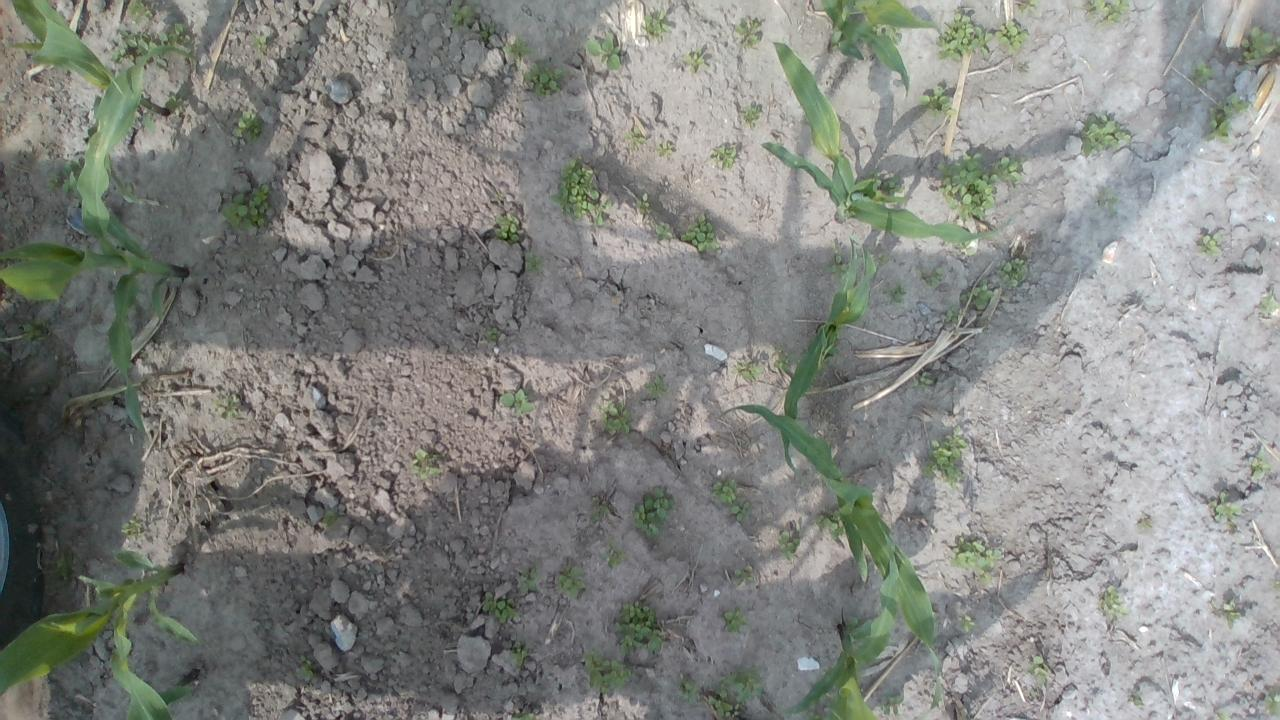Maize: (0, 43, 197, 434), (720, 404, 944, 712), (762, 40, 1005, 244), (0, 549, 198, 720), (8, 0, 168, 201), (780, 238, 877, 484), (784, 553, 899, 720), (814, 0, 941, 94), (126, 670, 198, 720)
Weeds: (936, 152, 996, 224), (920, 424, 970, 492), (610, 602, 666, 656), (934, 10, 992, 61), (552, 159, 600, 220), (584, 648, 640, 698), (949, 536, 1002, 586), (222, 184, 274, 232), (1080, 114, 1131, 157), (631, 488, 673, 540), (1207, 96, 1250, 144), (681, 211, 722, 254), (716, 670, 764, 704), (108, 32, 158, 62), (524, 61, 565, 97), (584, 32, 622, 70), (46, 160, 82, 198), (916, 86, 956, 118), (1242, 27, 1280, 60), (996, 19, 1030, 54), (1086, 0, 1130, 27), (1096, 585, 1128, 622), (482, 592, 520, 623), (1210, 490, 1244, 524), (230, 110, 264, 144), (598, 400, 632, 432), (671, 672, 705, 704), (500, 388, 536, 418), (992, 154, 1025, 185), (408, 448, 441, 479), (960, 280, 994, 310), (502, 33, 538, 58), (998, 256, 1026, 288), (560, 567, 586, 601), (707, 695, 741, 720), (160, 23, 192, 48), (211, 393, 243, 418), (732, 359, 766, 382), (776, 528, 800, 560), (643, 8, 672, 34), (816, 511, 846, 536), (1028, 654, 1050, 688), (495, 213, 520, 242), (450, 1, 475, 30), (734, 17, 760, 44), (711, 478, 737, 504), (877, 693, 904, 718), (723, 608, 750, 633), (520, 560, 541, 592), (826, 250, 848, 280), (872, 22, 902, 43), (1248, 453, 1272, 479), (116, 182, 144, 204), (1198, 232, 1222, 256), (712, 144, 736, 168), (886, 280, 910, 304), (120, 518, 144, 542), (126, 0, 156, 19), (1222, 600, 1242, 628), (644, 375, 665, 400), (590, 496, 610, 522), (595, 198, 613, 226), (24, 319, 48, 340), (879, 175, 904, 195), (911, 371, 933, 393), (624, 128, 648, 148), (686, 49, 706, 72), (729, 502, 752, 522), (296, 655, 315, 679), (741, 103, 762, 124), (607, 542, 624, 567), (1194, 64, 1214, 85), (508, 646, 528, 666), (1264, 693, 1280, 717), (956, 613, 976, 632), (526, 253, 544, 274), (321, 510, 342, 528), (1260, 292, 1278, 312), (926, 268, 944, 288), (654, 222, 674, 239), (252, 32, 272, 49), (479, 22, 496, 42), (52, 559, 68, 580), (772, 350, 789, 369), (1102, 191, 1120, 208), (734, 567, 752, 584), (510, 711, 537, 720), (1269, 574, 1280, 596), (1020, 0, 1040, 12), (636, 192, 650, 209), (946, 304, 960, 320), (486, 327, 498, 345), (154, 56, 168, 71), (1131, 692, 1144, 708), (656, 144, 672, 156), (164, 94, 178, 107), (142, 116, 155, 128), (867, 169, 881, 179), (1216, 710, 1230, 720), (1136, 520, 1152, 528), (876, 255, 888, 264), (958, 240, 969, 249)
